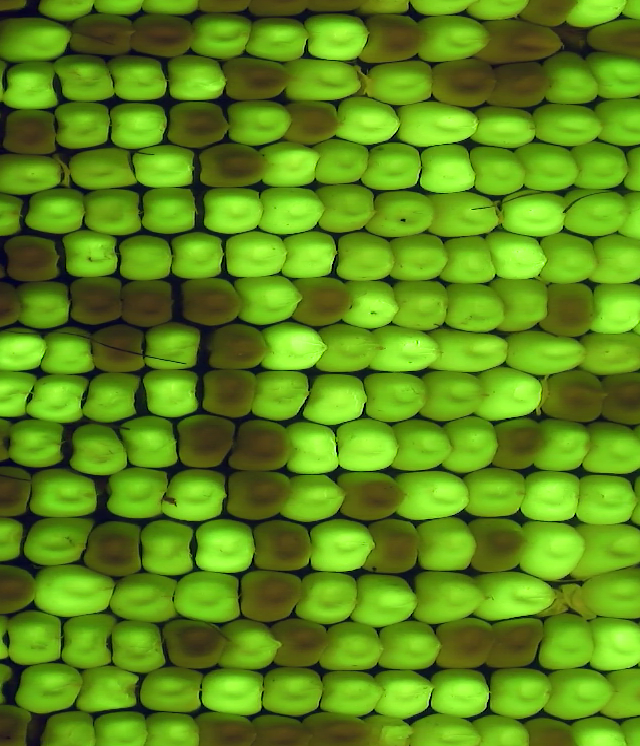fluorescent: (470, 566, 558, 619), (34, 562, 111, 619), (520, 519, 585, 583), (411, 570, 488, 623), (106, 569, 184, 621), (391, 470, 472, 520), (396, 99, 480, 147), (422, 188, 502, 238), (569, 522, 640, 578), (136, 661, 208, 715), (425, 325, 510, 370), (388, 278, 456, 334), (354, 569, 420, 626), (520, 465, 584, 523), (194, 517, 260, 573), (572, 473, 639, 528), (175, 570, 243, 624), (26, 516, 97, 567), (138, 516, 198, 576), (318, 622, 390, 672), (417, 16, 492, 64), (443, 413, 501, 475), (159, 469, 228, 521), (312, 179, 381, 231), (564, 187, 633, 239), (464, 463, 528, 519), (106, 618, 170, 674), (19, 661, 84, 716), (216, 616, 282, 670), (417, 366, 484, 419), (377, 619, 444, 672), (298, 570, 360, 627), (542, 670, 617, 717), (535, 232, 600, 286), (360, 58, 433, 106), (309, 518, 375, 571), (261, 663, 327, 716), (509, 328, 585, 374), (258, 184, 329, 233), (362, 368, 430, 419), (467, 143, 530, 198), (230, 278, 305, 324), (0, 17, 73, 64), (496, 273, 554, 332), (531, 103, 607, 148), (117, 416, 184, 467), (579, 565, 640, 621), (414, 516, 476, 571), (387, 420, 455, 470), (101, 467, 173, 514), (72, 421, 131, 478), (302, 13, 372, 61), (489, 664, 552, 717), (284, 474, 349, 525), (484, 230, 549, 280), (142, 183, 198, 241), (483, 362, 543, 416), (427, 666, 493, 715), (305, 372, 367, 424), (388, 233, 452, 283), (281, 58, 363, 97), (61, 612, 116, 670), (224, 98, 293, 144), (372, 191, 438, 239), (335, 419, 397, 470), (53, 53, 116, 103), (164, 53, 227, 103), (447, 282, 510, 332), (261, 323, 328, 370), (468, 105, 541, 148), (201, 184, 265, 233), (538, 415, 593, 472), (199, 668, 267, 714), (580, 420, 640, 472), (191, 13, 260, 58), (417, 144, 479, 194), (342, 281, 405, 330), (9, 416, 65, 471), (539, 614, 597, 667), (540, 53, 599, 105), (5, 611, 65, 662), (370, 327, 438, 372), (165, 229, 225, 280), (80, 370, 141, 420), (31, 472, 100, 516), (106, 54, 169, 102), (2, 59, 59, 112), (30, 373, 89, 424), (572, 140, 631, 191), (440, 235, 499, 286), (337, 230, 397, 280), (71, 147, 139, 191), (335, 98, 403, 142), (515, 145, 580, 191), (503, 189, 568, 235), (109, 102, 170, 151), (116, 234, 177, 283), (587, 613, 640, 669), (372, 669, 435, 716), (317, 325, 382, 370), (319, 666, 381, 713), (52, 103, 114, 150), (224, 234, 290, 278), (360, 145, 424, 190), (78, 665, 139, 712), (63, 227, 119, 278), (143, 323, 205, 369), (29, 187, 88, 235), (83, 188, 144, 234), (311, 138, 372, 184), (12, 283, 74, 328), (144, 369, 202, 417), (133, 145, 196, 189), (290, 423, 342, 476), (583, 52, 640, 100), (257, 145, 322, 187), (587, 282, 640, 333), (258, 368, 309, 420), (244, 19, 309, 59), (406, 714, 483, 746), (591, 96, 640, 146), (285, 234, 338, 280), (0, 155, 61, 194), (47, 328, 97, 375), (592, 239, 640, 287), (142, 709, 202, 746), (582, 335, 640, 373), (0, 326, 51, 369), (471, 713, 535, 746), (95, 713, 150, 746), (601, 670, 640, 716), (0, 370, 36, 419), (564, 1, 624, 30), (569, 715, 624, 746), (364, 711, 412, 746), (48, 711, 95, 746), (31, 1, 97, 24), (469, 1, 528, 24), (406, 1, 478, 17), (95, 1, 144, 20), (144, 1, 201, 15)
nonfluorescent: (79, 517, 151, 585), (235, 568, 305, 628), (538, 281, 602, 345), (476, 22, 571, 64), (328, 470, 409, 518), (430, 57, 504, 108), (539, 372, 613, 423), (114, 273, 179, 331), (361, 518, 426, 576), (225, 467, 295, 520), (194, 142, 271, 190), (432, 618, 499, 673), (162, 618, 232, 670), (467, 519, 536, 571), (64, 273, 127, 329), (227, 422, 296, 473), (483, 613, 544, 670), (179, 277, 244, 330), (165, 97, 230, 148), (251, 521, 316, 572), (180, 412, 232, 474), (485, 62, 551, 110), (267, 621, 333, 669), (221, 59, 292, 103), (204, 322, 269, 370), (3, 107, 64, 157), (292, 278, 350, 329), (492, 419, 545, 474), (3, 234, 65, 281), (199, 370, 259, 418), (65, 15, 132, 56), (127, 17, 199, 55), (288, 99, 345, 147), (362, 14, 421, 60), (90, 326, 146, 373), (304, 710, 372, 746), (587, 17, 640, 63), (596, 377, 640, 429), (242, 711, 303, 746), (0, 565, 41, 617), (195, 714, 255, 746), (516, 1, 573, 32), (0, 468, 34, 519), (0, 704, 39, 746), (521, 720, 576, 746), (247, 1, 309, 19), (305, 1, 355, 15)
